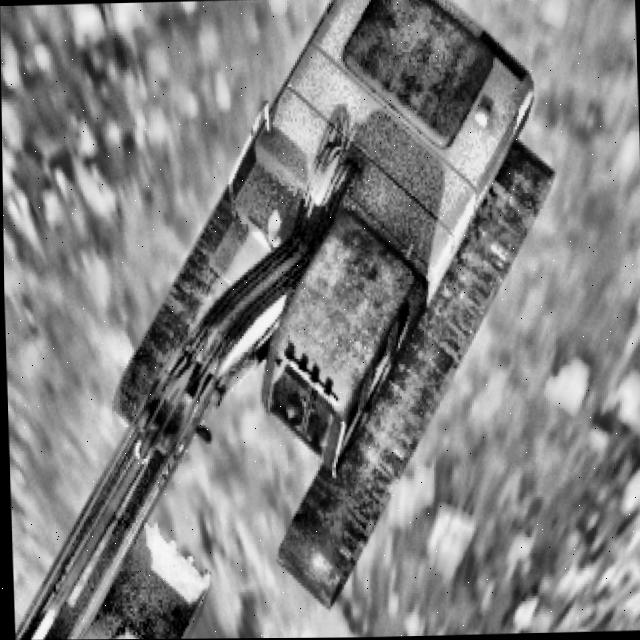excavator: (0, 0, 564, 640)
